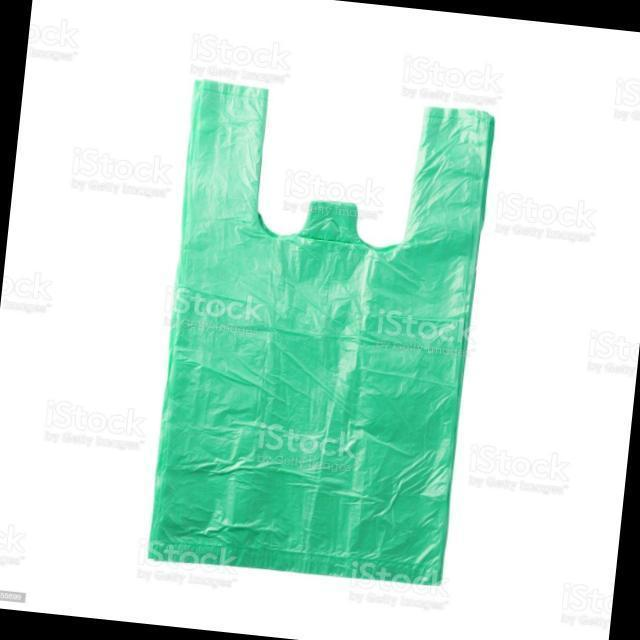Plastic_Bag: (124, 65, 510, 601)
